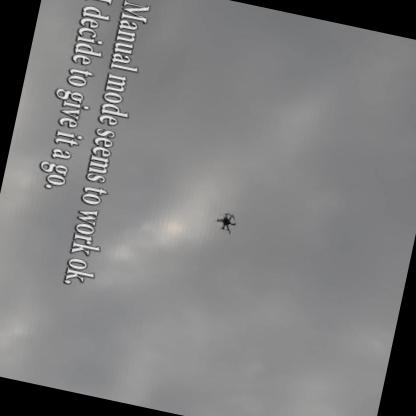drone: (207, 209, 238, 236)
